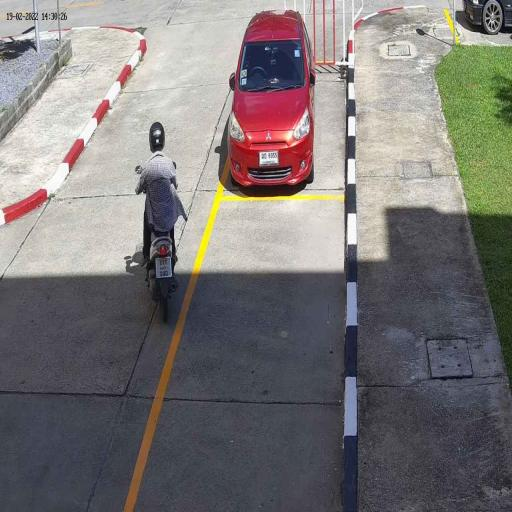car: (226, 8, 317, 195)
motorcycle: (146, 230, 181, 326)
